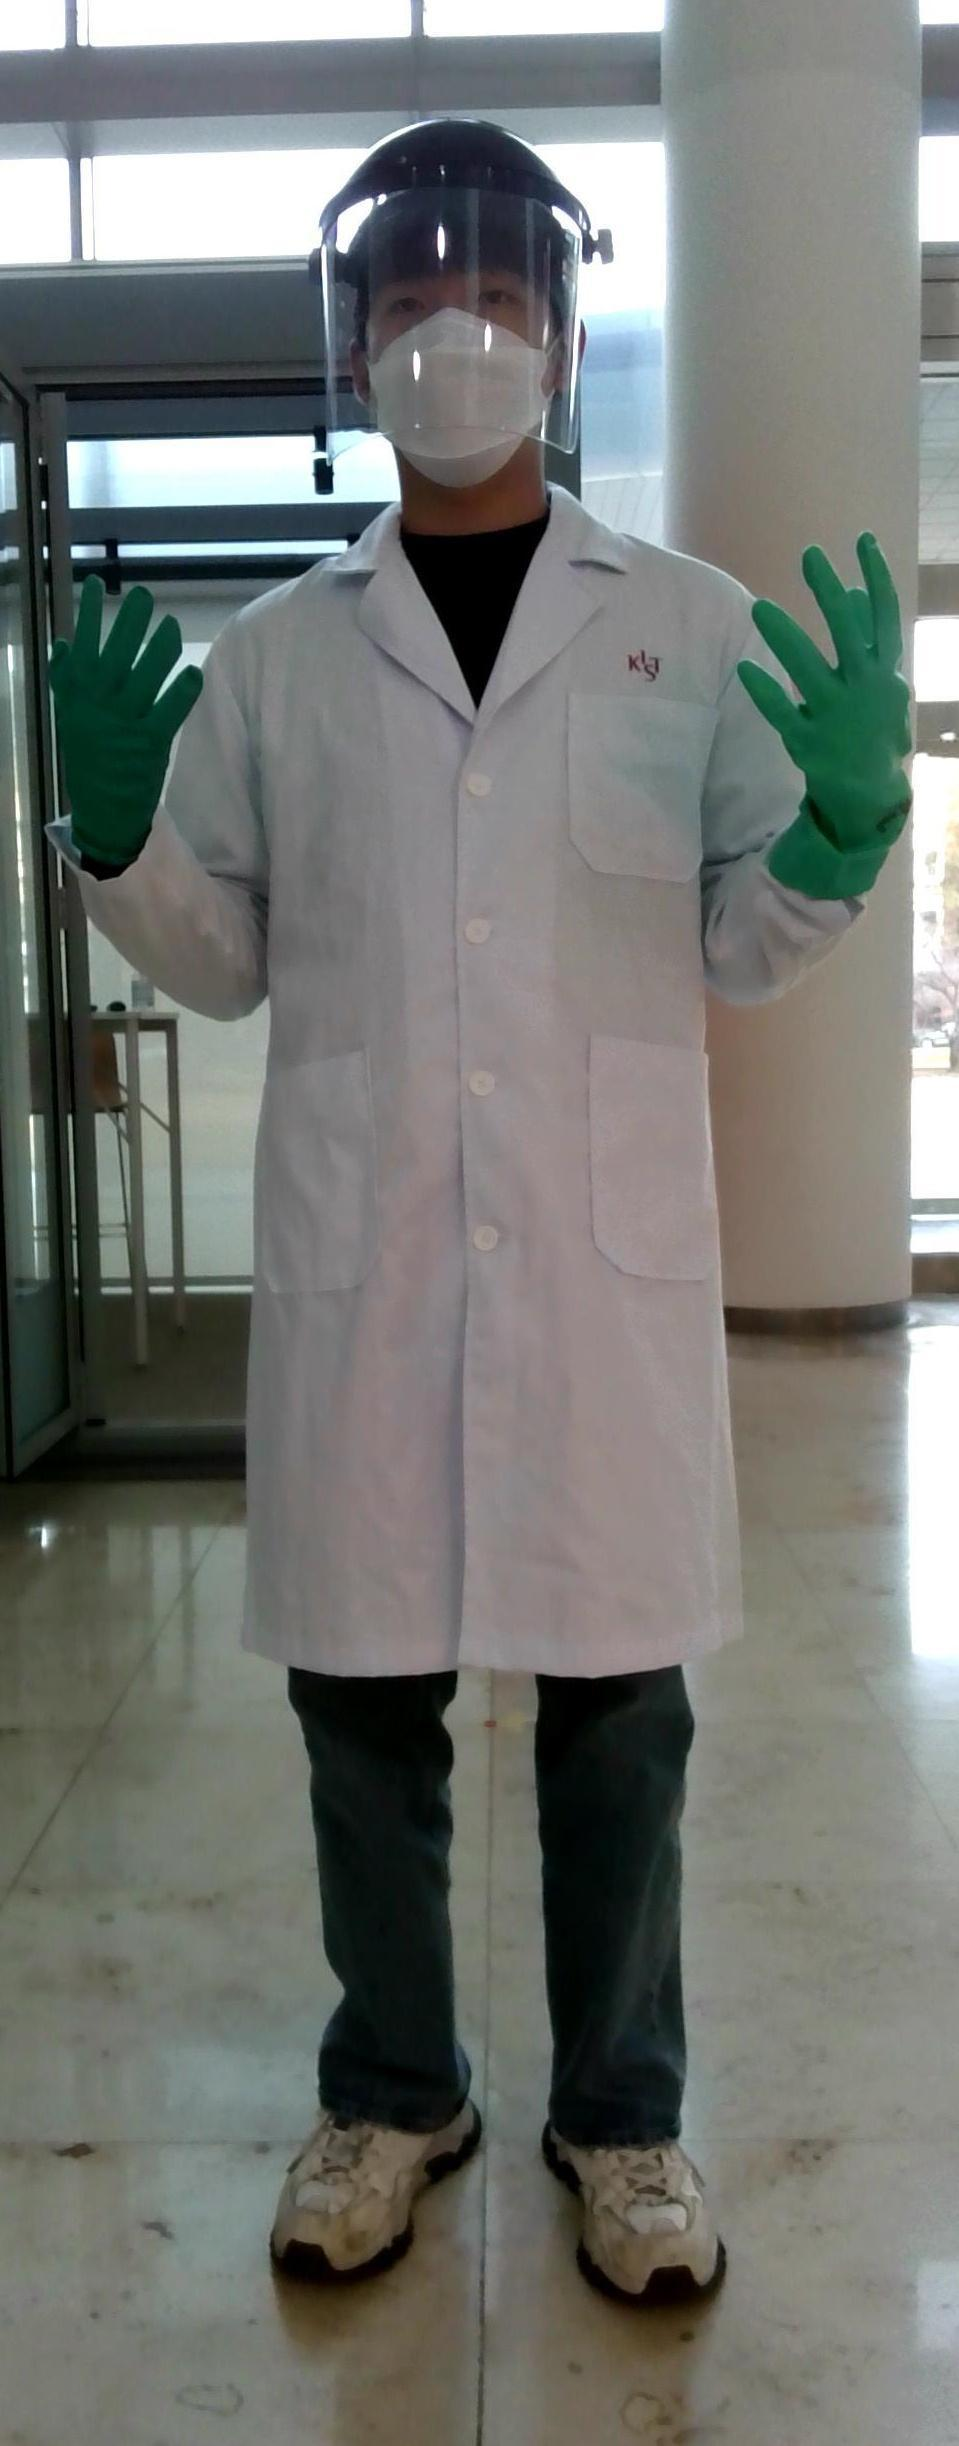lab_coat: (226, 571, 739, 1679)
